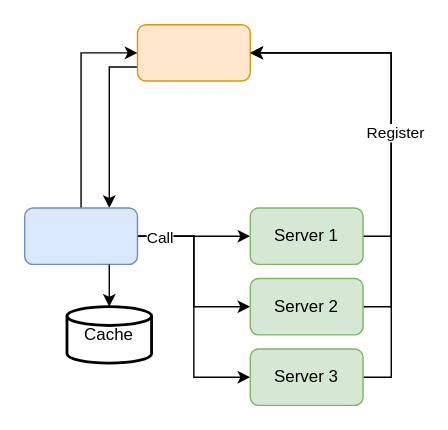
Image size: 448x430. Some labels were removed from this diagram. Each missing label, with the box of its shape:
Client: (23, 207, 137, 264)
Registry Center: (136, 23, 250, 81)
